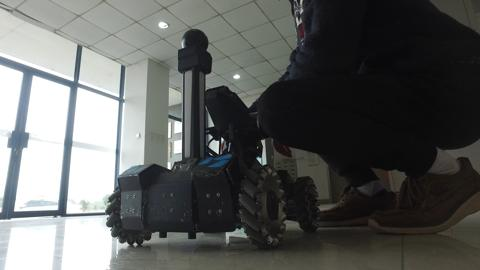chariot: (80, 25, 325, 254)
